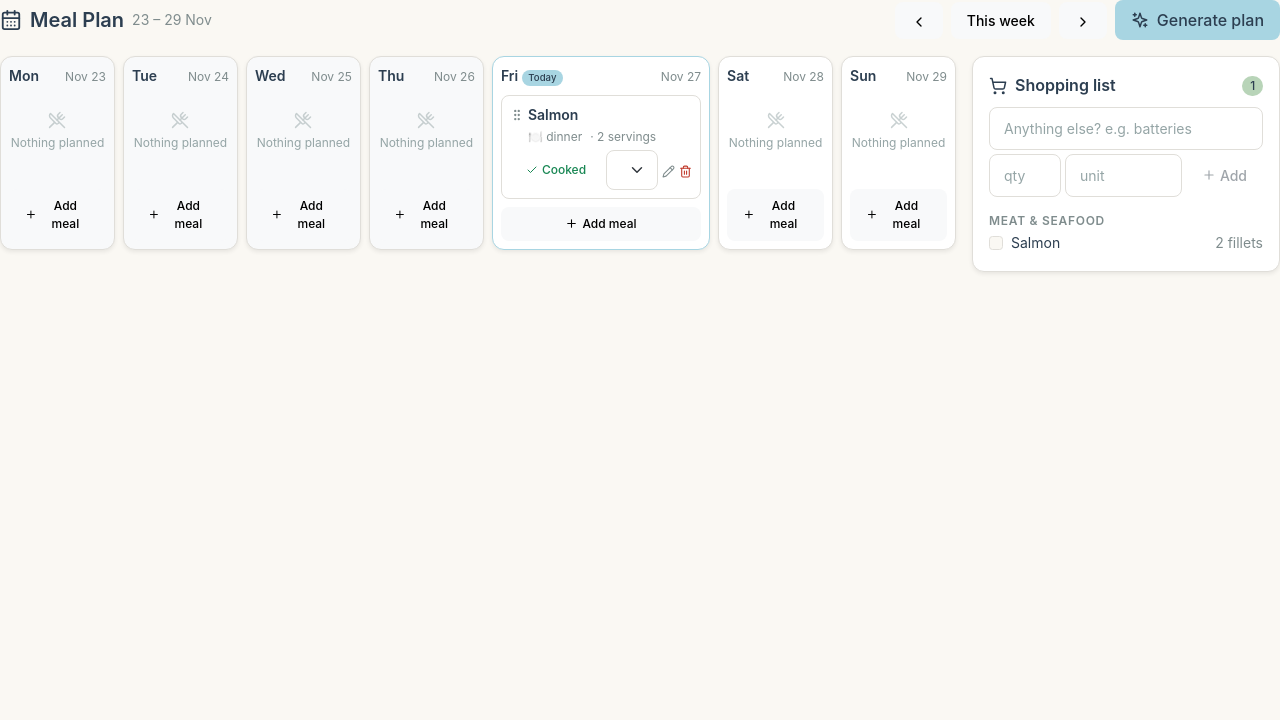
Test: editing a meal already on the board › writes the amended fields, and nothing else
Expected: the heading "Meal Plan" is shown, left=30, top=7, right=124, bottom=33
Click the button named "edit salmon".
click(669, 170)  # box left=662, top=160, right=675, bottom=180
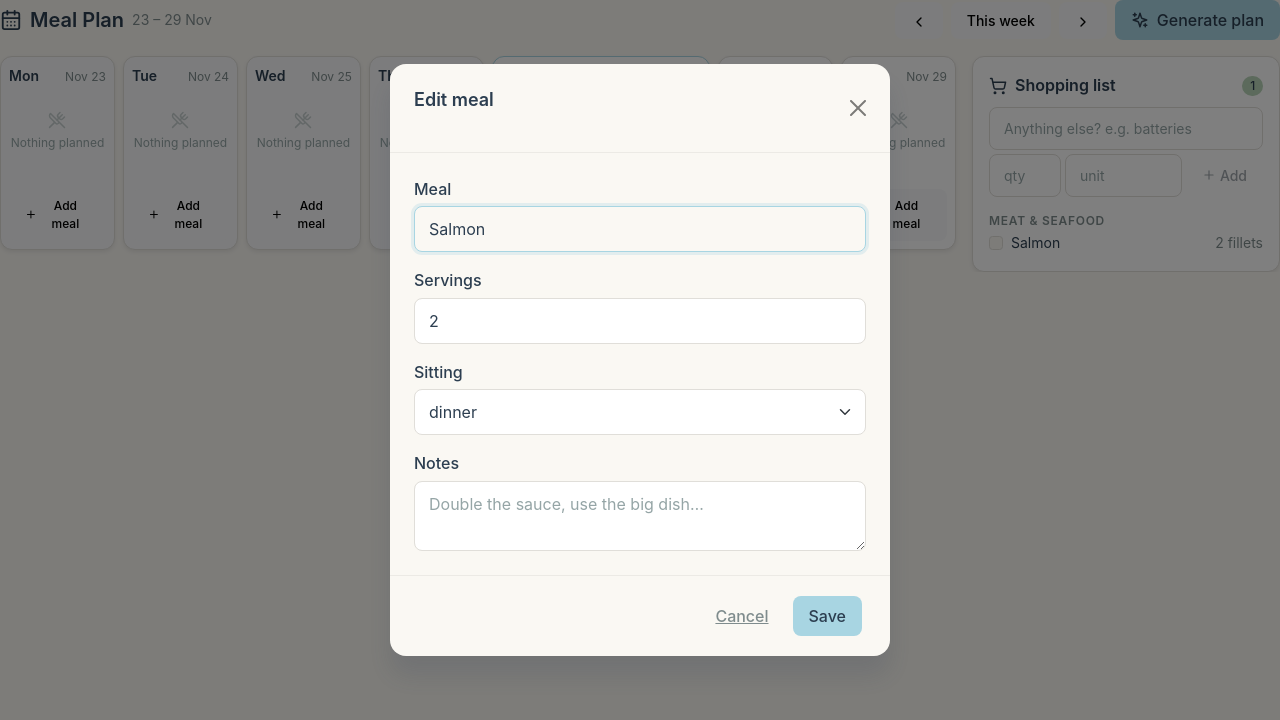
Replace the text in the number field labelled "Servings" with "4" at (640, 321), box left=414, top=298, right=866, bottom=344
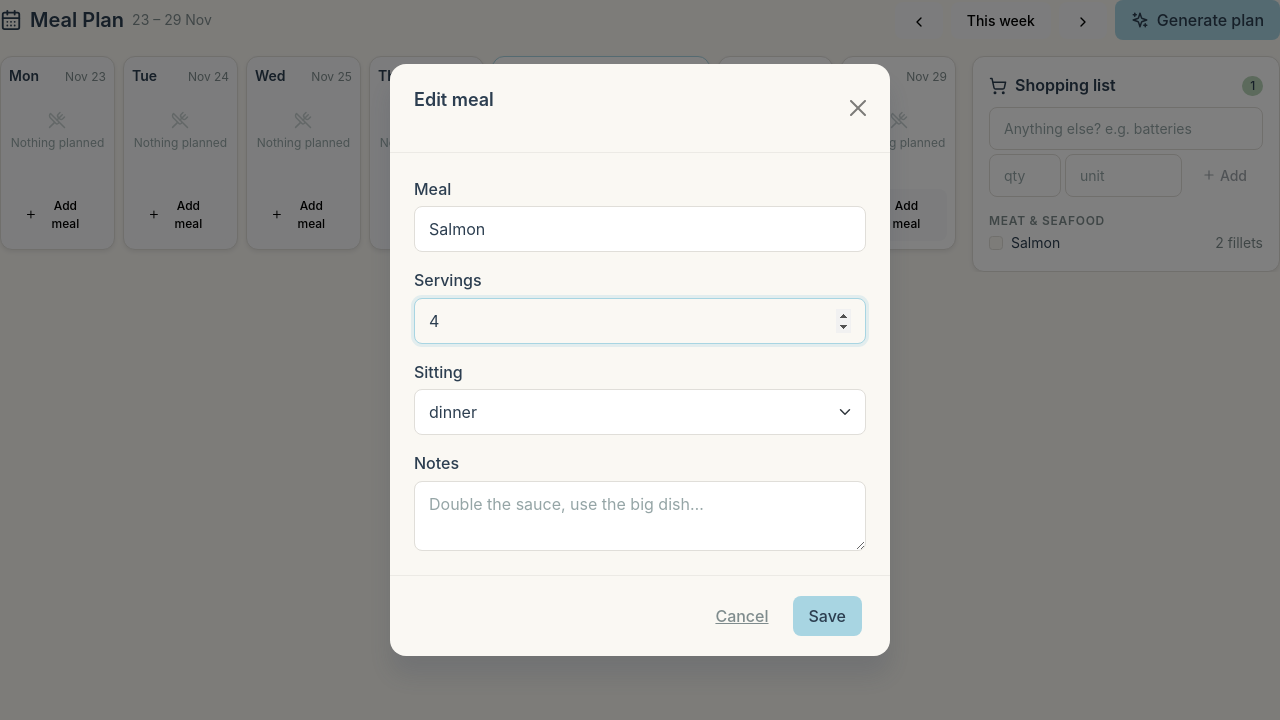
Click the button "Save".
click(827, 616)  # box left=792, top=596, right=862, bottom=636
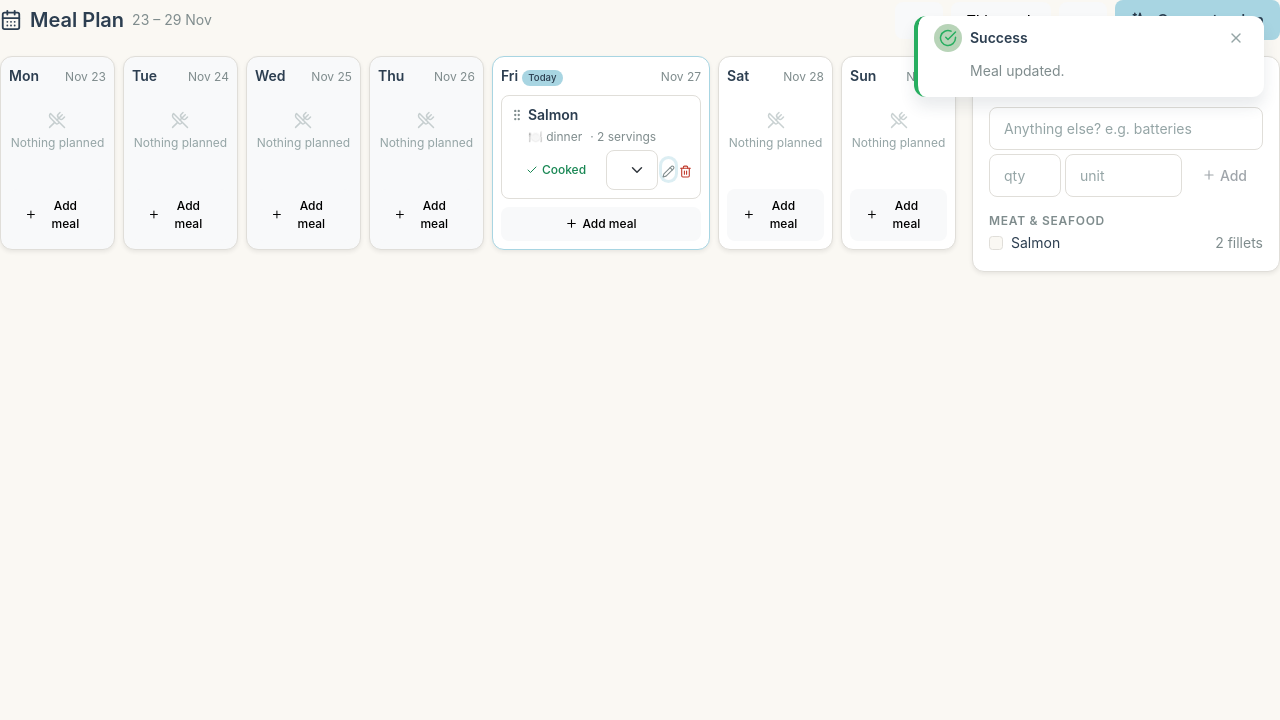
Expected: the text "Meal updated." is shown, left=970, top=62, right=1065, bottom=79
